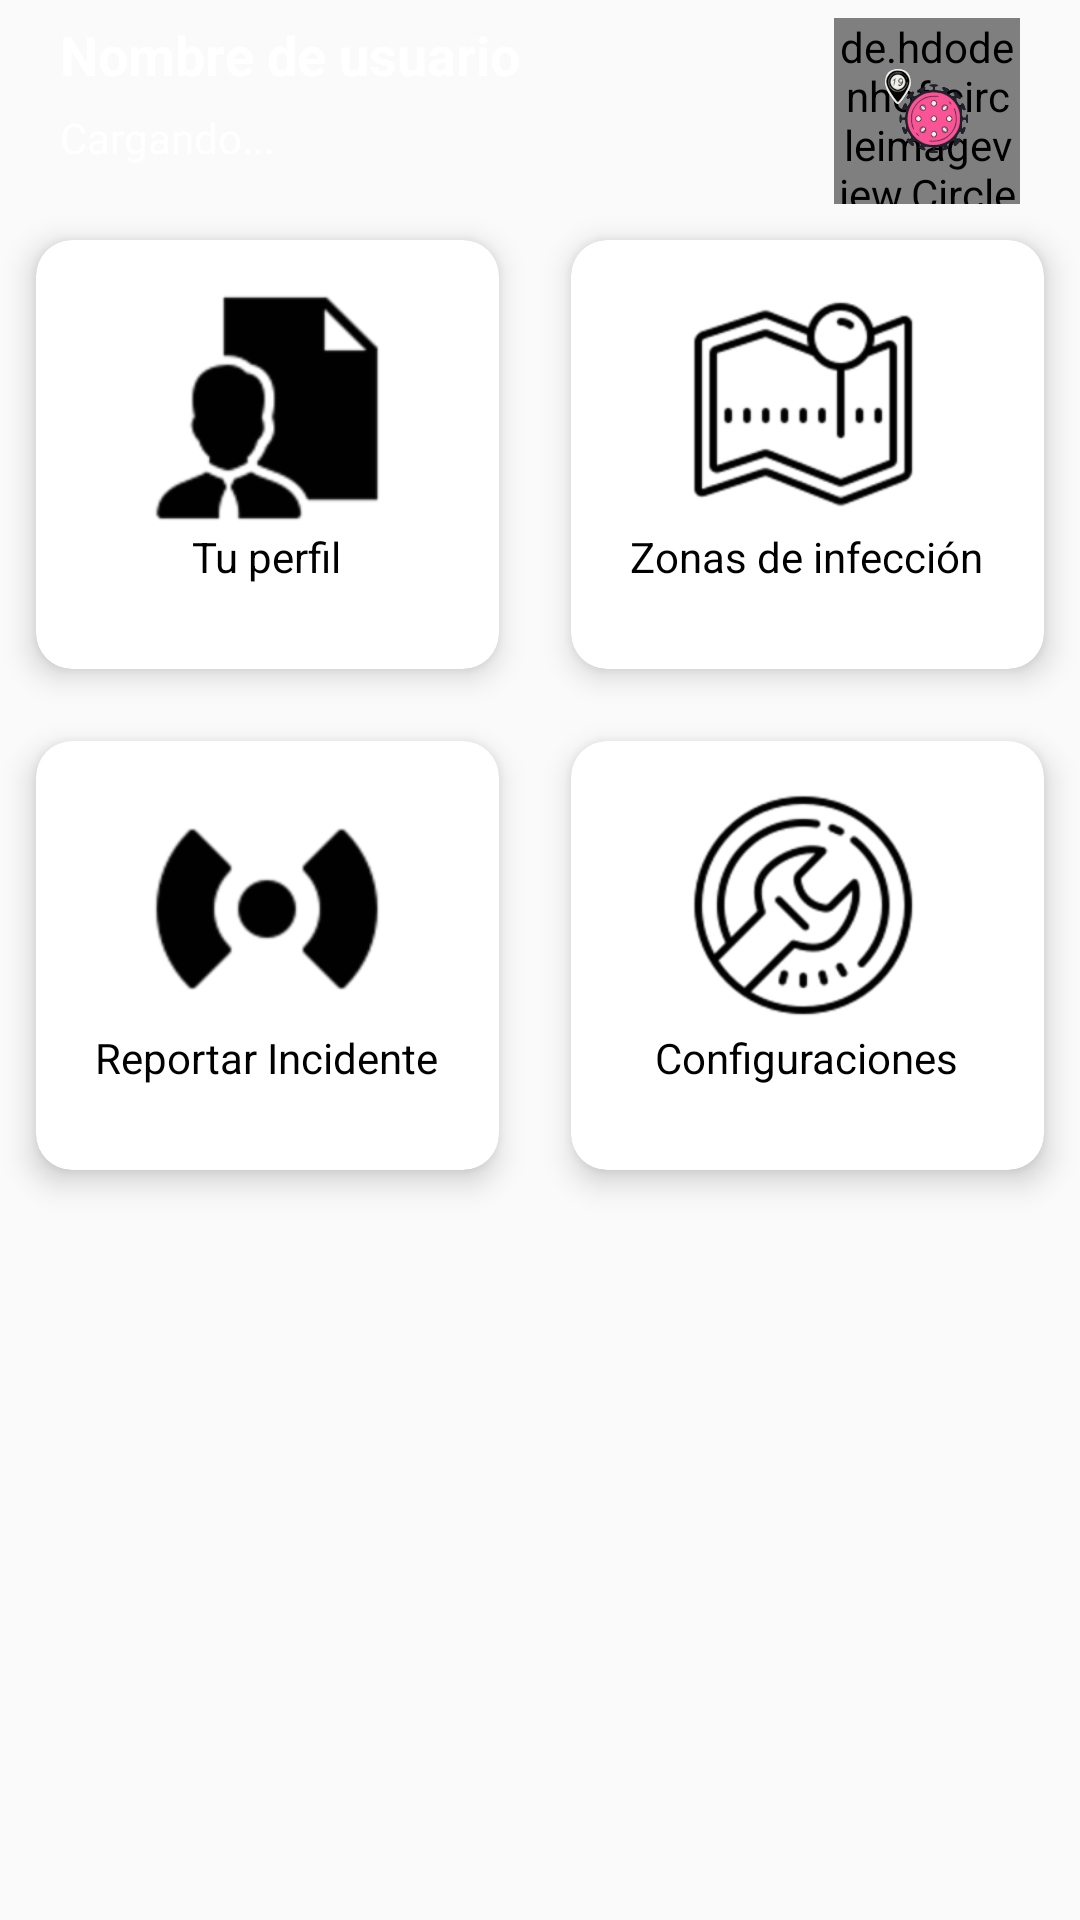

Where to tap for icons on this 1080×1920 app screen, as (x,y):
alarm: (267,909)
mapa: (803,404)
